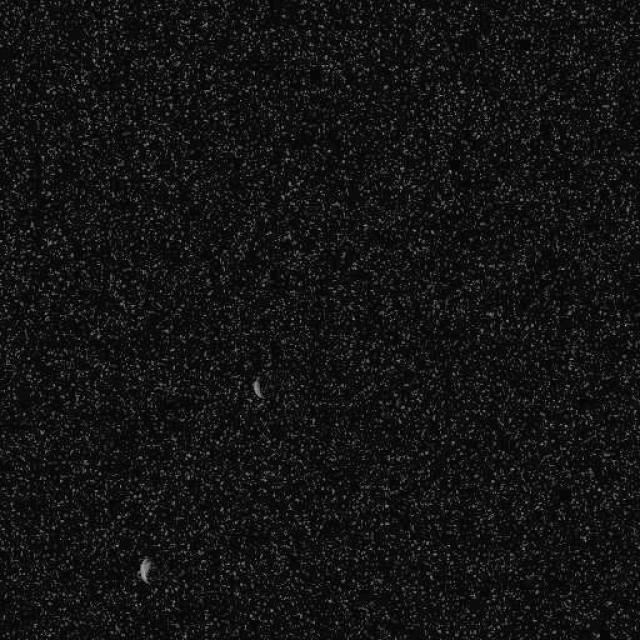D2: (136, 555, 152, 584), (250, 376, 264, 399)
